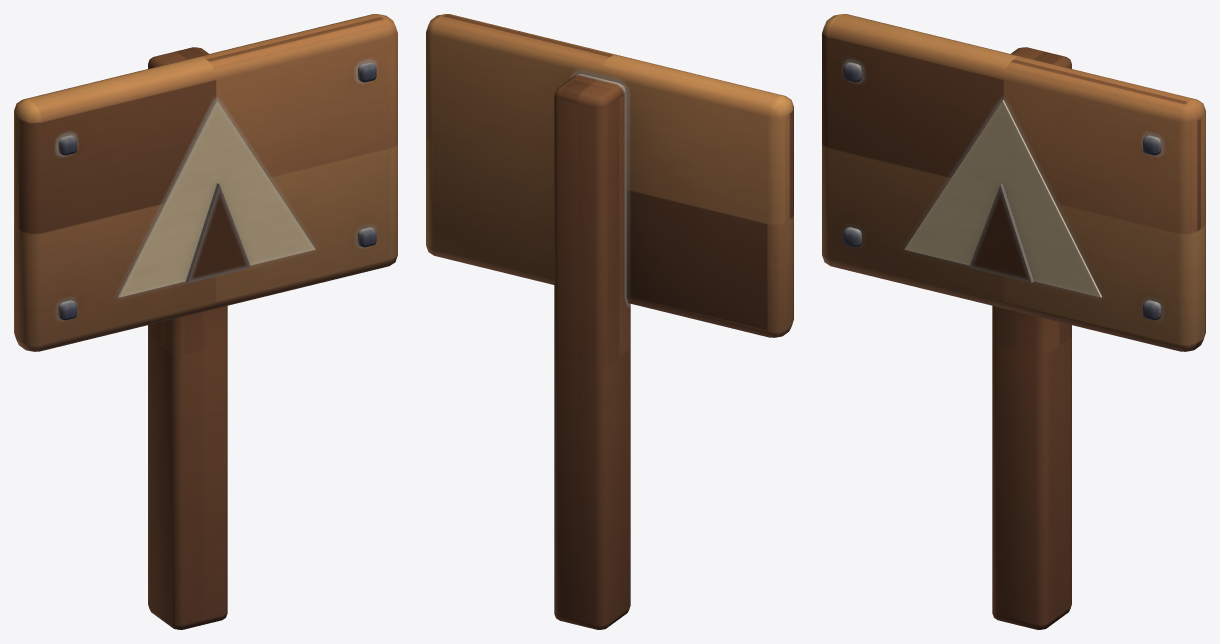
The model's file is camp_sign.glb.
The picture shows the model from 3 angles, left to right: view 1: azimuth 30°, elevation 25°; view 2: azimuth 150°, elevation 25°; view 3: azimuth 330°, elevation 25°; orthographic projection. The views are drawn at different scales.
Parts seen in each view (by area): view 1: camp_sign; view 2: camp_sign; view 3: camp_sign.
Part boxes in pixels (bbox=[...]): camp_sign: bbox=[14, 14, 397, 629]; camp_sign: bbox=[426, 14, 793, 629]; camp_sign: bbox=[822, 14, 1205, 629].
Bounding box in the file's own units: 0.95 × 1.39 × 0.215.
1 material, 1 textured.
